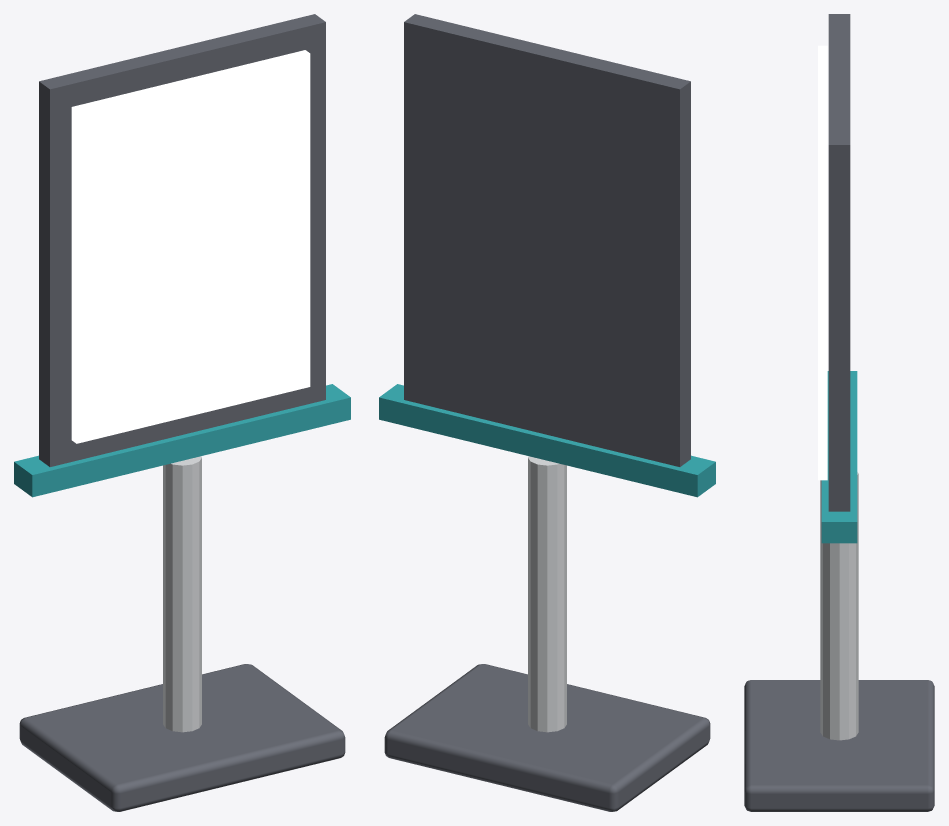
3 views of the same model, side by side, from view 1: azimuth 30°, elevation 25°; view 2: azimuth 150°, elevation 25°; view 3: azimuth 270°, elevation 25° (orthographic). The views are drawn at different scales.
Visible parts, largest first — view 1: counter-mirror; view 2: counter-mirror; view 3: counter-mirror.
Part boxes in pixels (bbox=[...]): counter-mirror: bbox=[14, 14, 350, 811]; counter-mirror: bbox=[379, 14, 715, 811]; counter-mirror: bbox=[744, 14, 934, 811].
Size of the model in its own units: 0.3 by 0.63 by 0.16.
